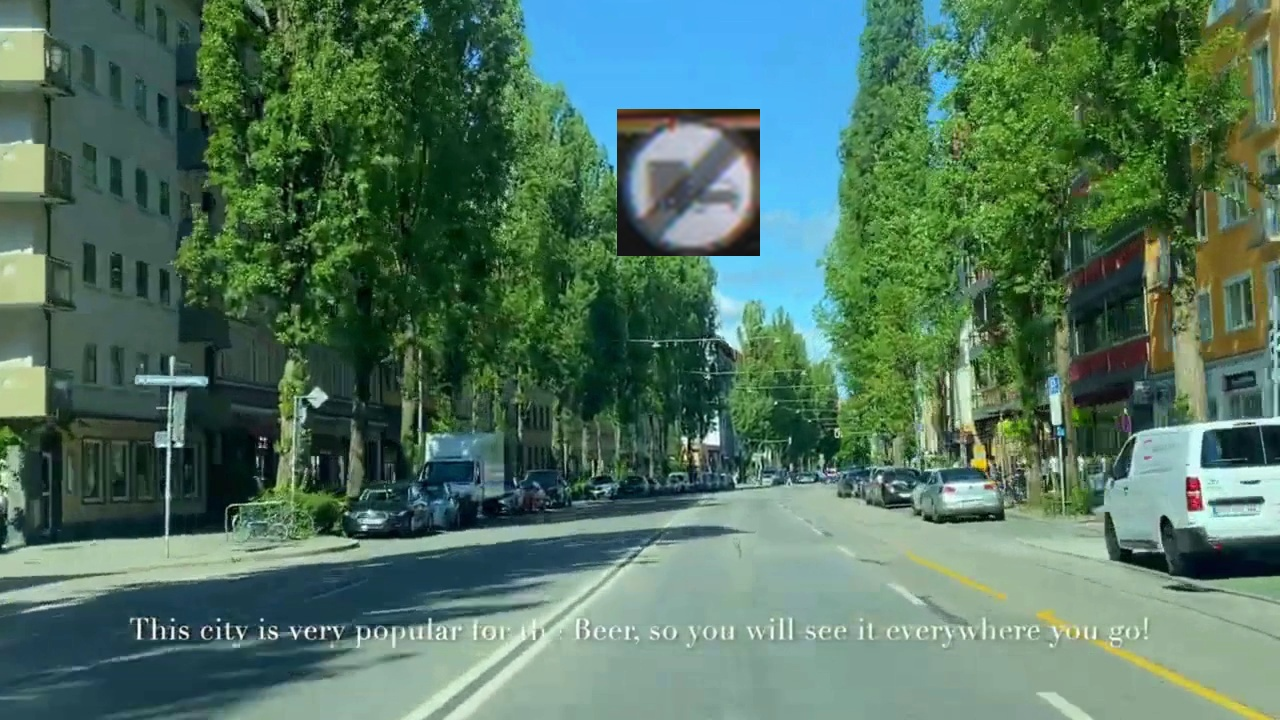End no pass >3.5t: (617, 109, 760, 256)
